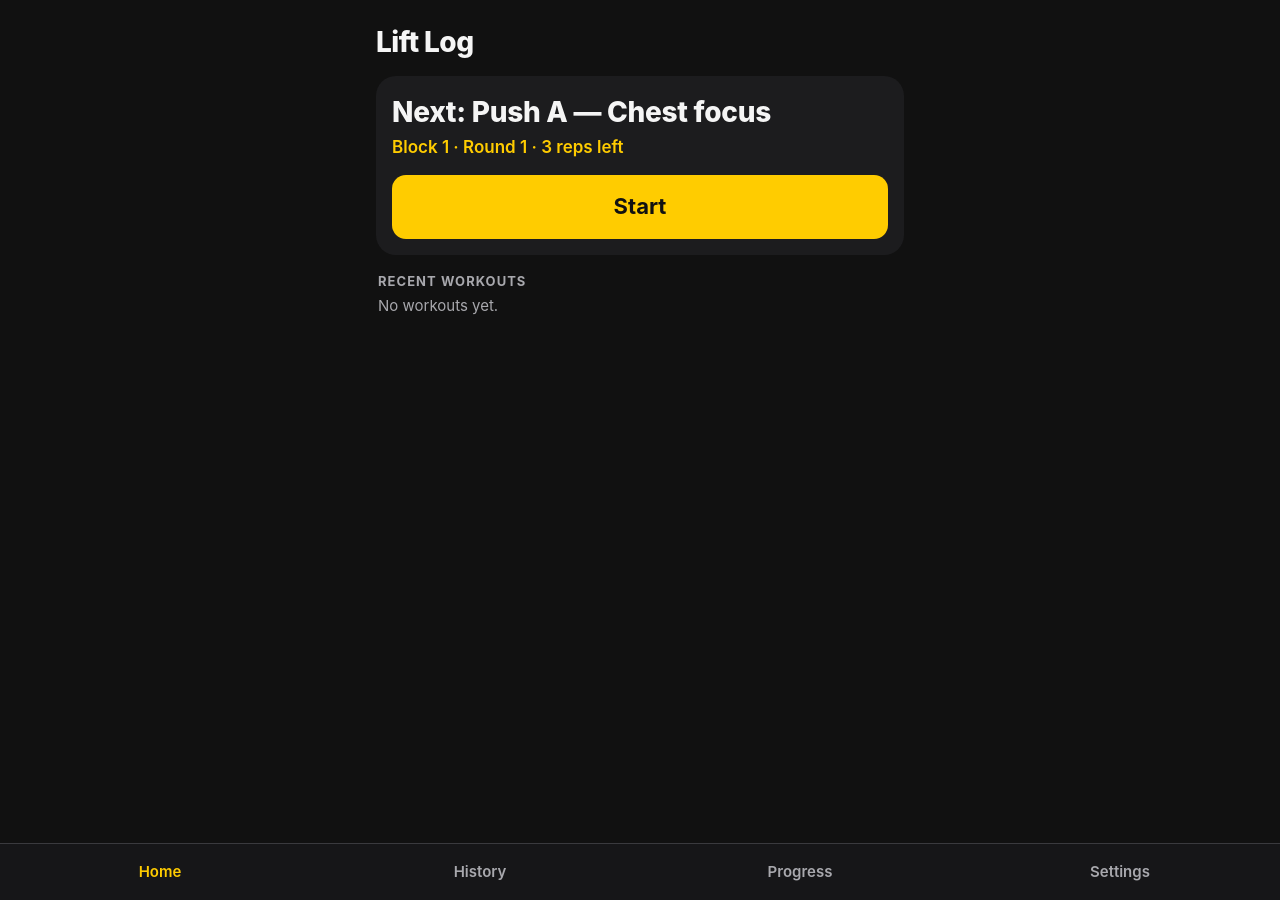
Test: Workout › swaps to a custom "Other" exercise for the same muscle
Click the button "Start".
click(640, 207)  # box [392,175,888,239]
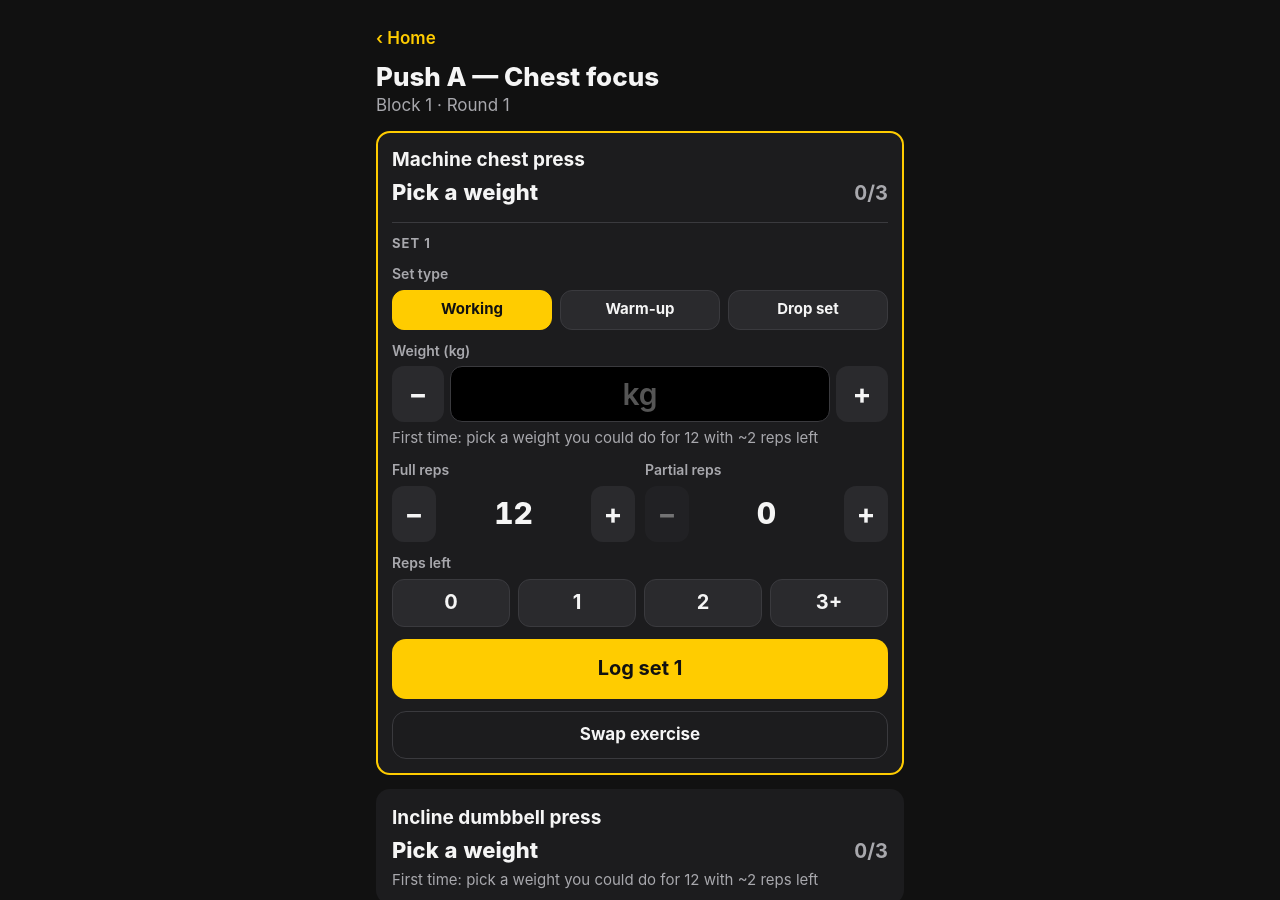
Now the element "Machine chest press" is shown, box [376,131,904,774]
Click the button "Swap exercise".
click(640, 734)  # box [392,710,888,758]
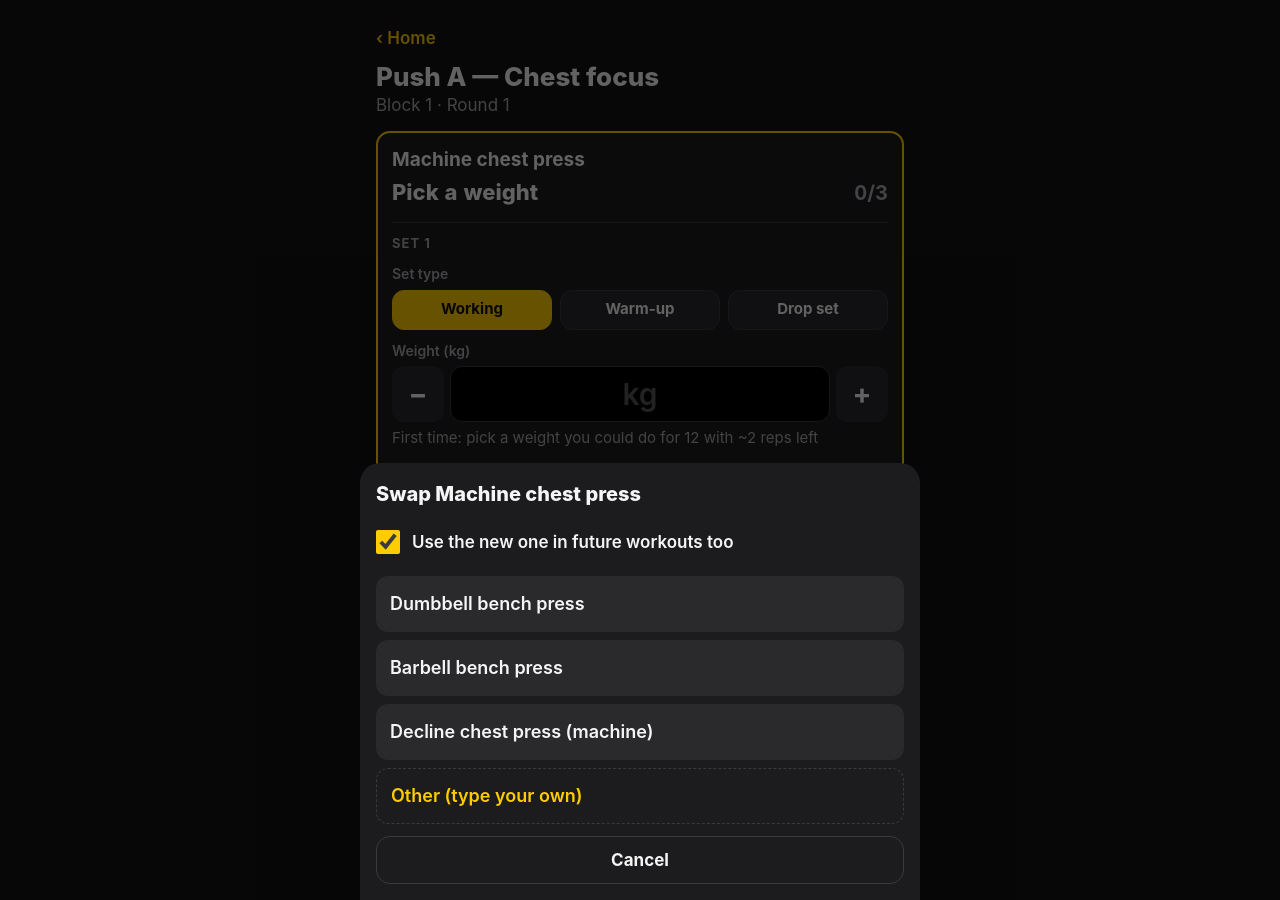
Click the button "Other (type your own)".
click(487, 795)  # box [376,768,904,824]
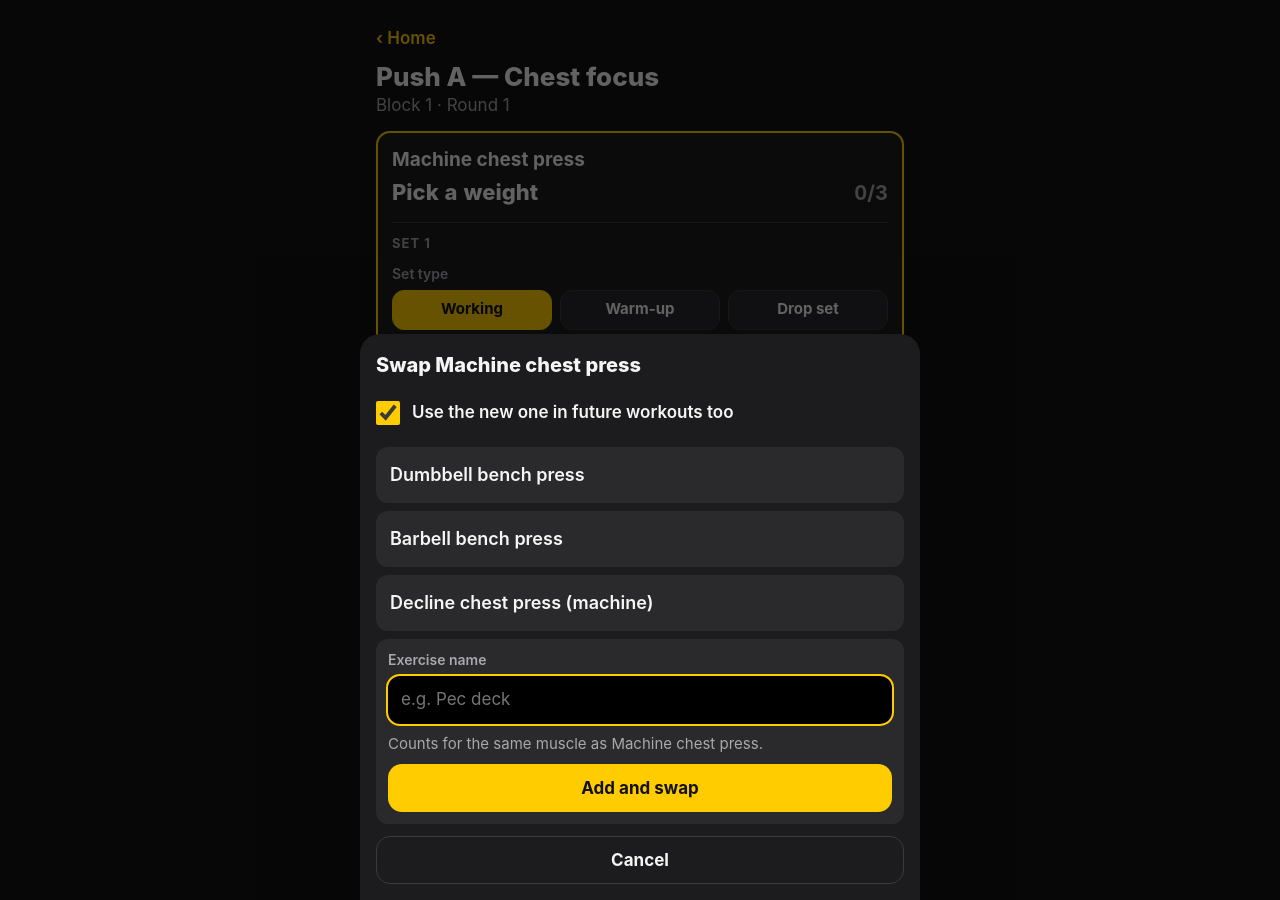
Click the checkbox labelled "Use the new one in future workouts too".
click(388, 413)  # box [376,401,400,425]
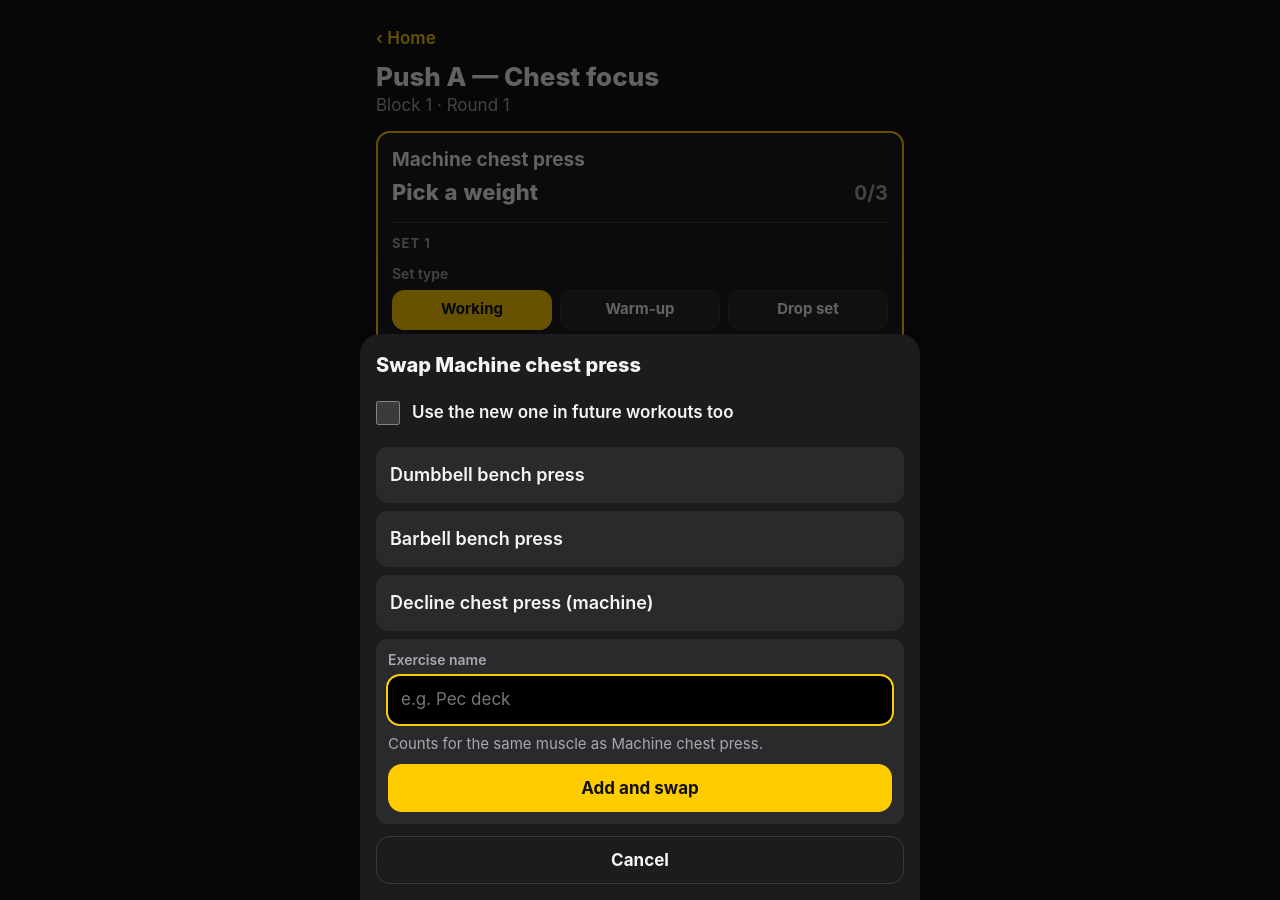
Type "Pec deck" into the field labelled "Exercise name".
click(640, 700); type("Pec deck")  # box [388,676,892,724]
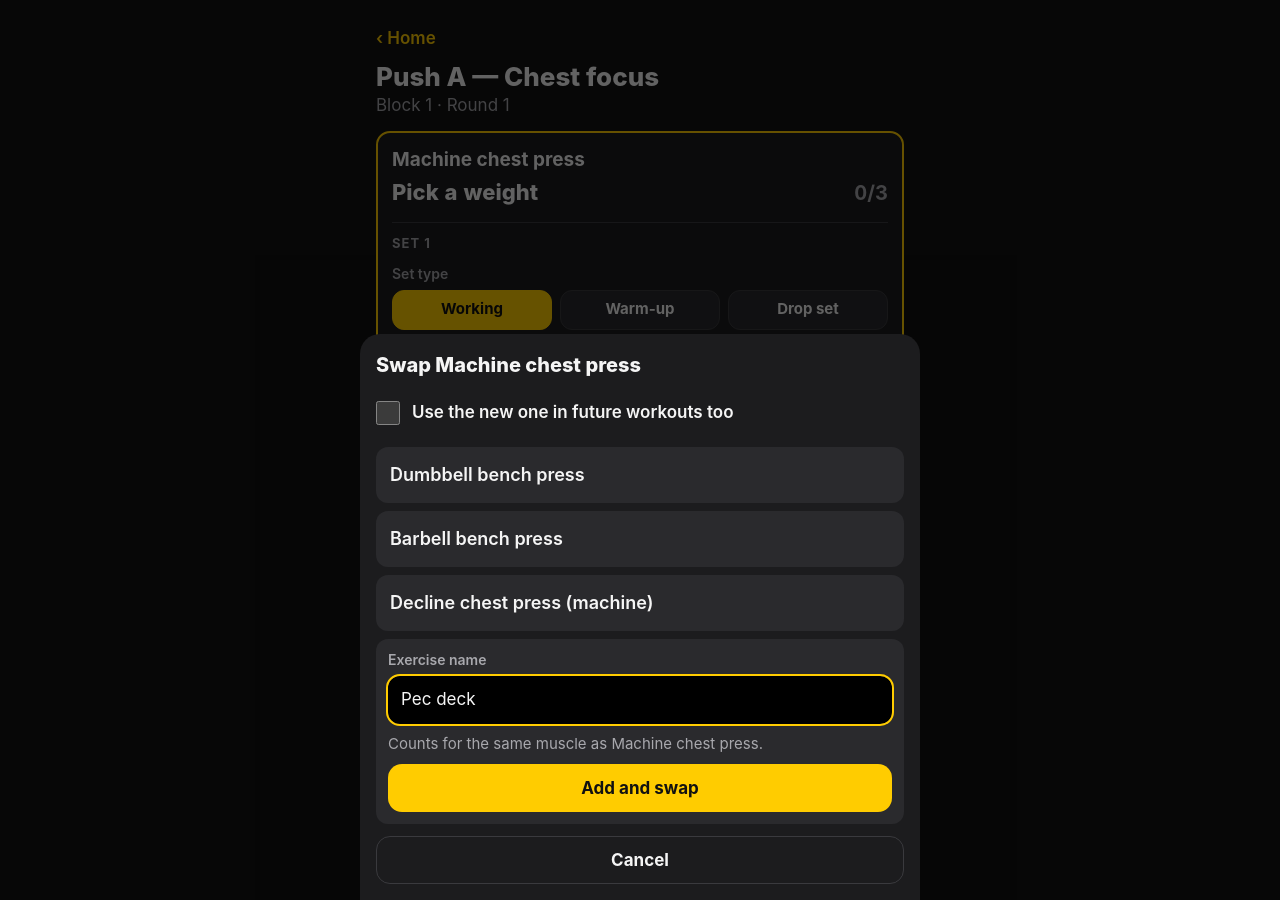
Click the button "Add and swap".
click(640, 788)  # box [388,764,892,812]
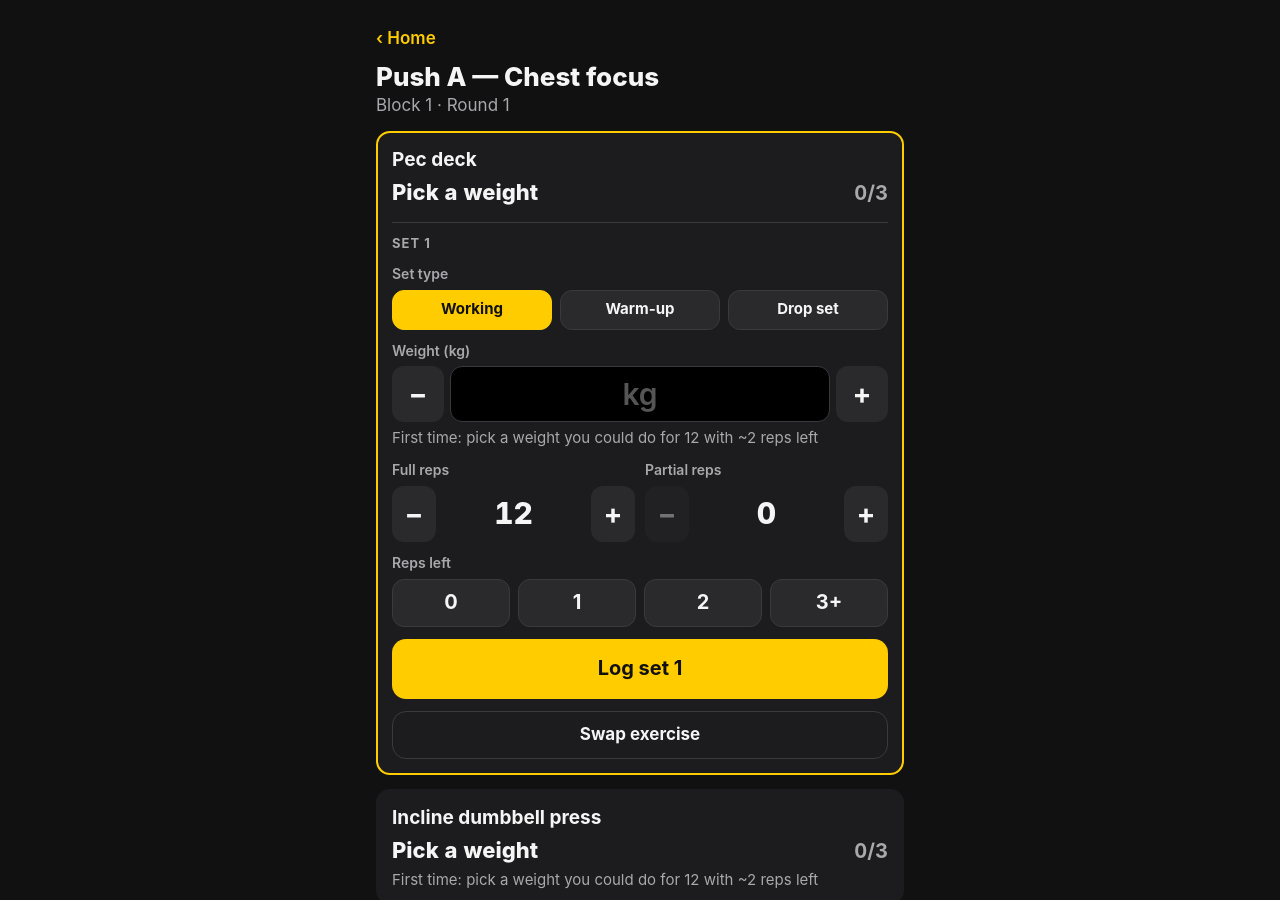
Now the element "Pec deck" is shown, box [376,131,904,774]
